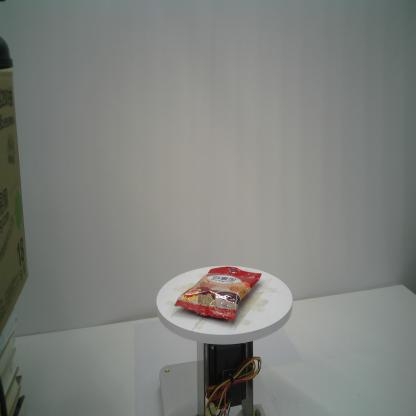Instant Drink: (173, 265, 263, 323)
